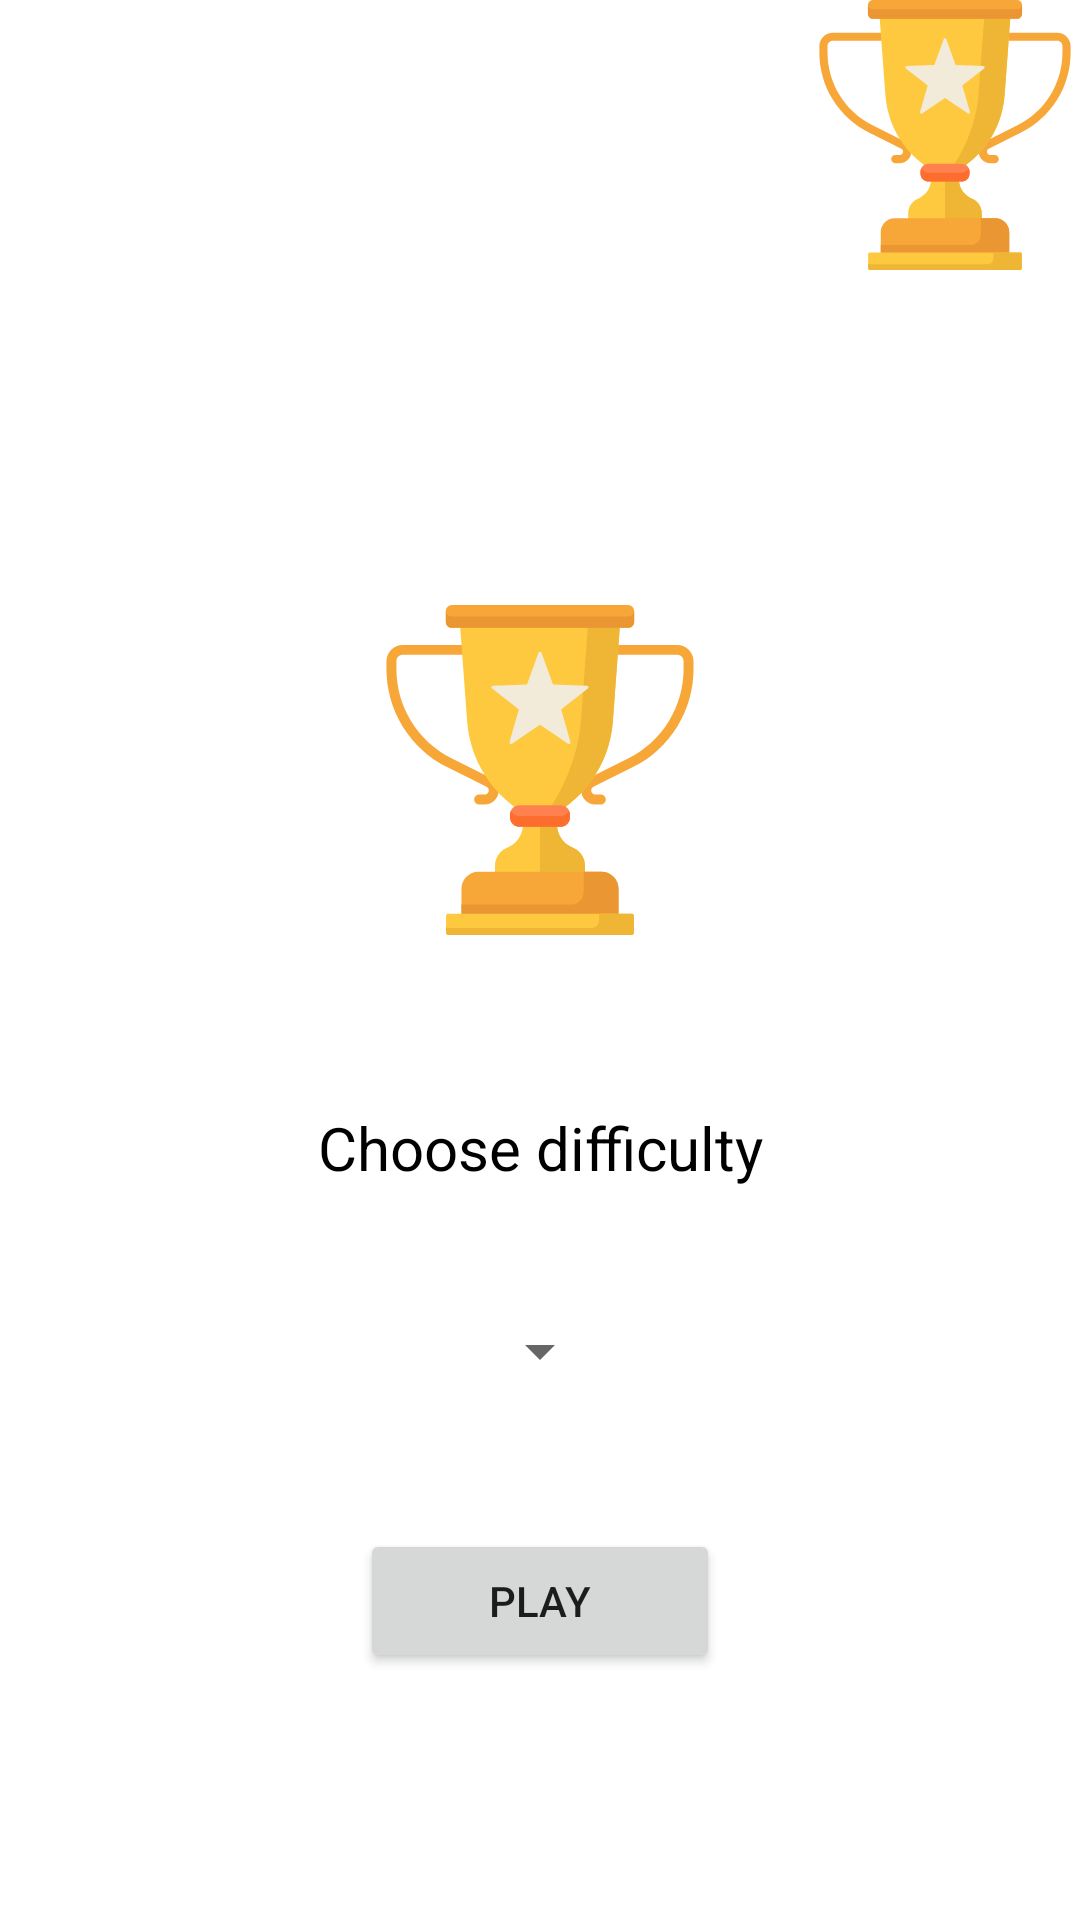

Named icons in this screenshot (1080x1920) and their centers, [x,y]:
trophy: [945,135], [540,770]
